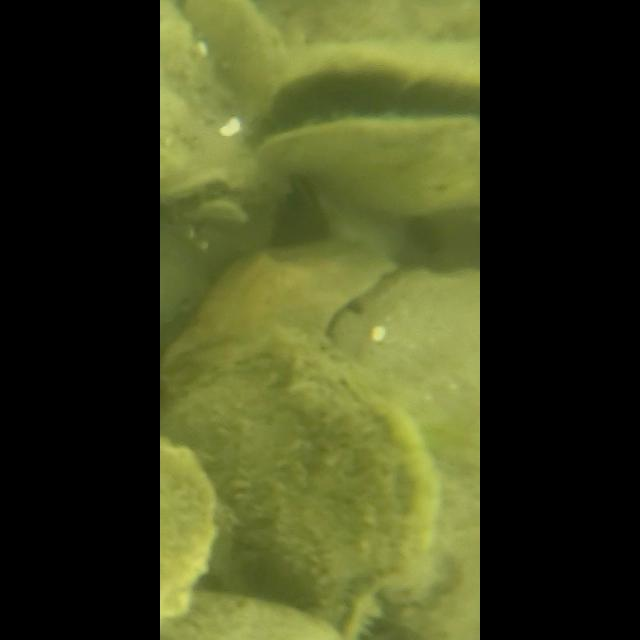Oyster-Closed: (160, 329, 439, 639), (330, 266, 479, 639), (160, 3, 278, 356), (162, 240, 392, 369), (180, 0, 290, 134), (160, 437, 212, 625), (160, 591, 349, 639), (301, 189, 410, 263)
Oyster-Open: (258, 40, 479, 217), (166, 174, 258, 222)
